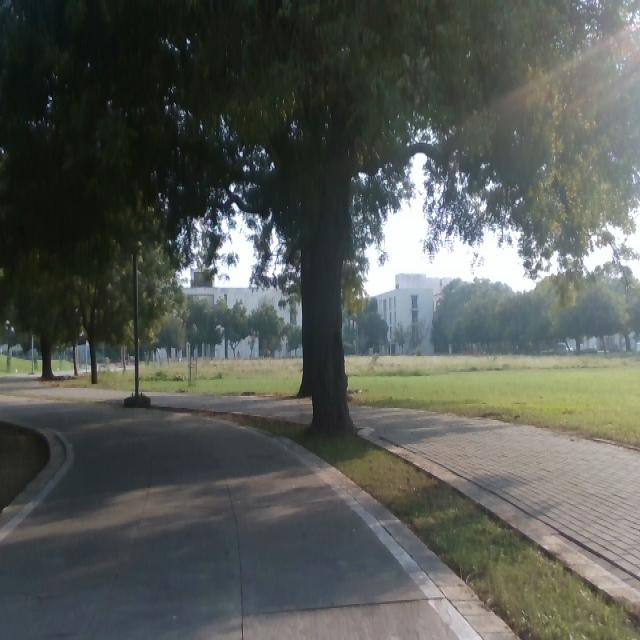lane: (0, 399, 462, 640)
